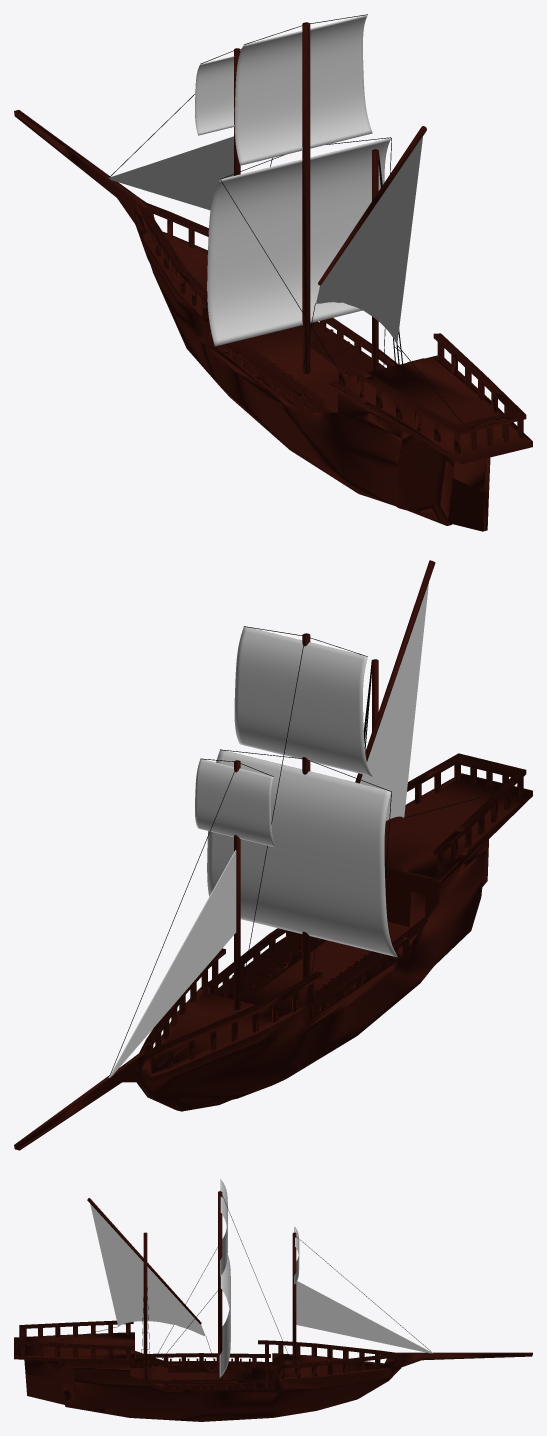
The model's file is caravel.obj.
3 renders of one model, top to bottom at view 1: azimuth 30°, elevation 25°; view 2: azimuth 150°, elevation 25°; view 3: azimuth 270°, elevation 25°, orthographic. The views are drawn at different scales.
Parts seen in each view (by area): view 1: sails, hull, rudder, ropes; view 2: sails, hull, ropes; view 3: hull, sails, rudder, ropes.
Boxes of the visible parts, left/top/right/bottom form: sails: left=109, top=15, right=422, bottom=346; hull: left=14, top=22, right=532, bottom=525; rudder: left=447, top=457, right=490, bottom=531; ropes: left=110, top=14, right=462, bottom=423; sails: left=108, top=582, right=428, bottom=1077; hull: left=14, top=560, right=532, bottom=1150; ropes: left=109, top=626, right=479, bottom=1075; hull: left=14, top=1191, right=532, bottom=1421; sails: left=90, top=1179, right=432, bottom=1377; rudder: left=24, top=1359, right=66, bottom=1405; ropes: left=50, top=1190, right=431, bottom=1379.
Size of the model in its own units: 64.26 by 142 by 293.
